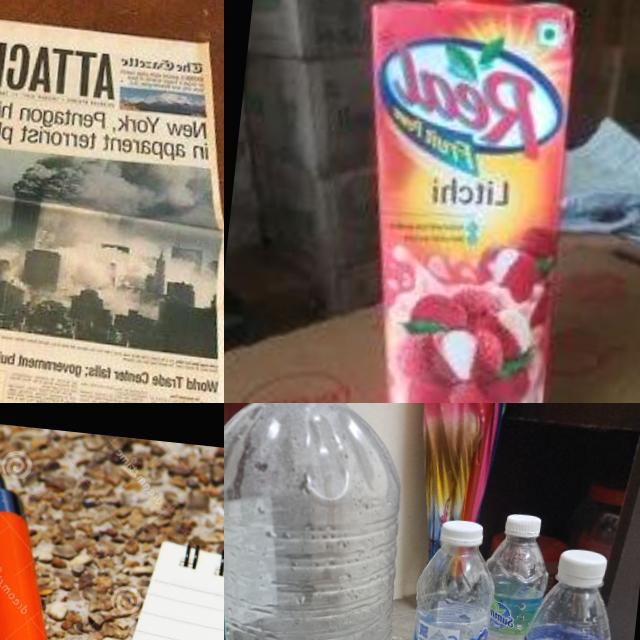caixinha: (319, 0, 586, 403)
garrafa plástica: (224, 403, 411, 640), (403, 540, 497, 640), (465, 541, 552, 640), (507, 577, 614, 640)
papel: (0, 8, 224, 403), (78, 531, 224, 640)
tampa plástica: (553, 548, 608, 592), (444, 516, 484, 555), (504, 509, 544, 541)
